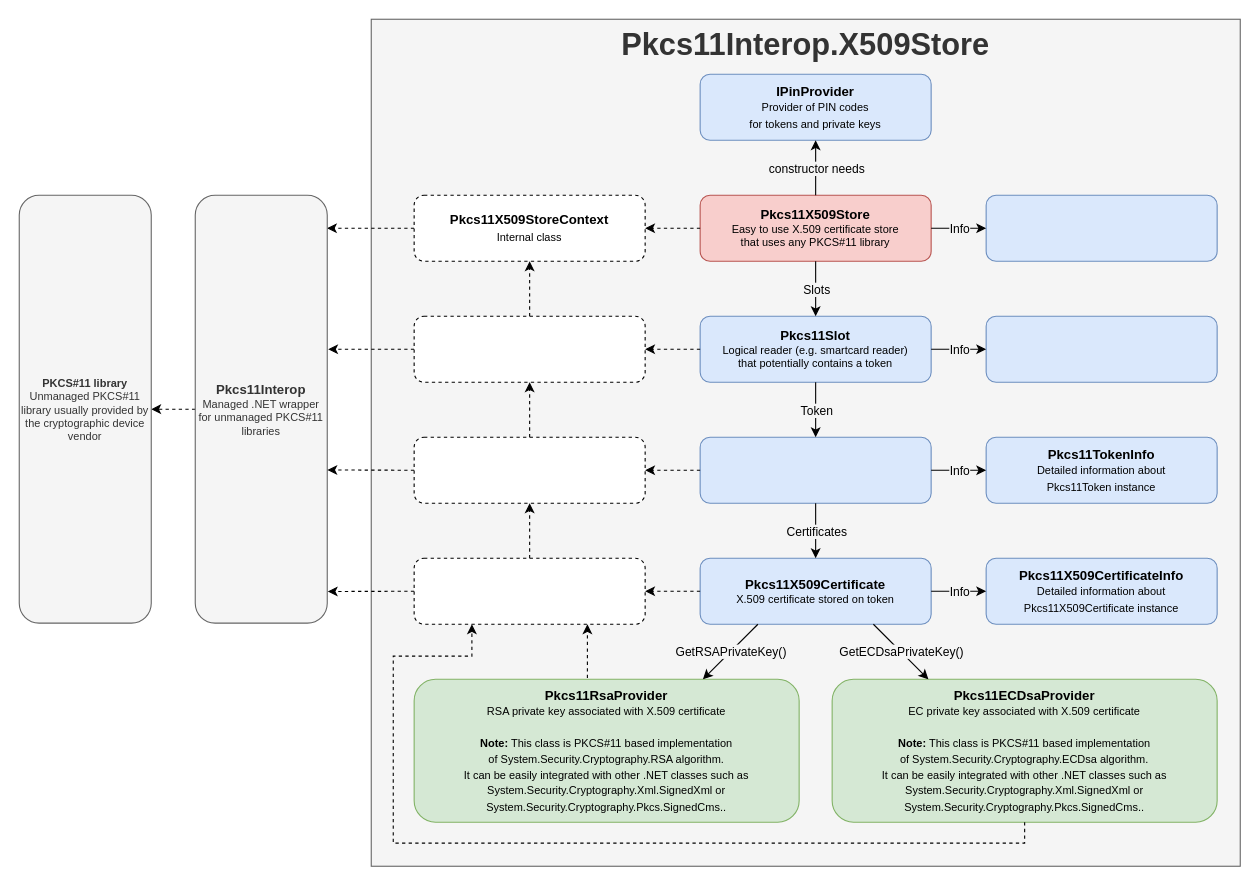
Some shapes in this 1260 by 886 pixel diagram are drawn without their labels. Here are the shapes that lost their labels. From the top down, the centre of each, then its label:
(x=1101, y=227): Pkcs11X509StoreInfo Detailed information about Pkcs11X509Store instance
(x=529, y=348): Pkcs11SlotContext Internal class
(x=1101, y=348): Pkcs11SlotInfo Detailed information about Pkcs11Slot instance
(x=529, y=469): Pkcs11TokenContext Internal class
(x=815, y=469): Pkcs11Token Cryptographic device (e.g. smartcard) that is present in the slot
(x=529, y=590): Pkcs11X509CertificateContext Internal class
